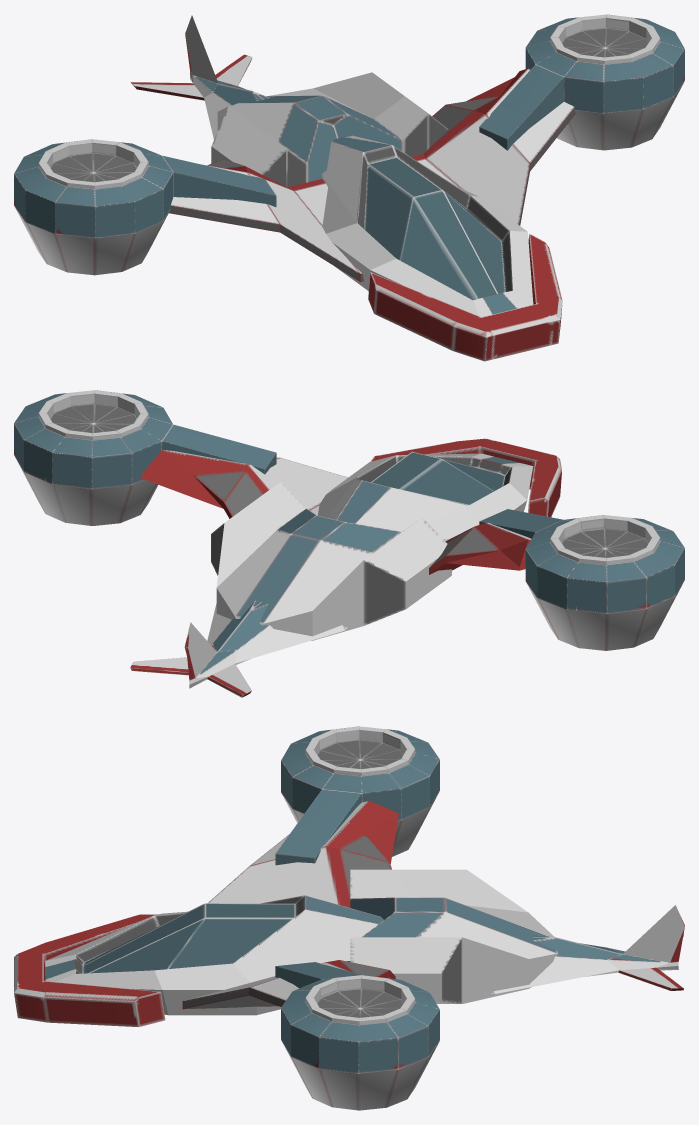
Rendered from prop_dropship.fbx.
The picture shows the model from 3 angles, top to bottom: view 1: azimuth 30°, elevation 25°; view 2: azimuth 150°, elevation 25°; view 3: azimuth 270°, elevation 25°; orthographic projection.
Visible parts, largest first — view 1: pCube17; view 2: pCube17; view 3: pCube17.
Part boxes in pixels (x1,y1,x2,y2): pCube17: (14, 14, 684, 361); pCube17: (14, 390, 684, 697); pCube17: (14, 726, 684, 1110).
Size of the model in its own units: 9.41 by 1.75 by 8.45.
